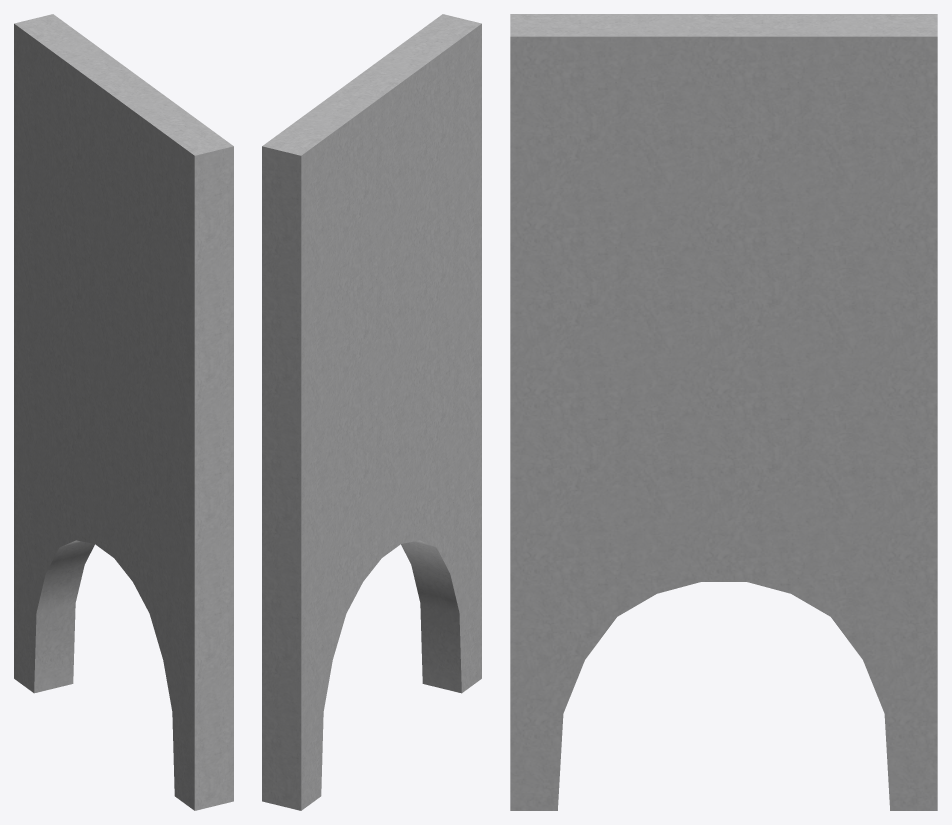
The model's file is GJ_Wall_04.fbx.
3 views of the same model, side by side, from view 1: azimuth 30°, elevation 25°; view 2: azimuth 150°, elevation 25°; view 3: azimuth 270°, elevation 25° (orthographic). The views are drawn at different scales.
Visible parts, largest first — view 1: GJ_Wall_04; view 2: GJ_Wall_04; view 3: GJ_Wall_04.
Boxes of the visible parts, box(x1,y1,x2,y2) form: GJ_Wall_04: box(14, 14, 233, 810); GJ_Wall_04: box(262, 14, 481, 810); GJ_Wall_04: box(510, 14, 937, 810).
Bounding box in the file's own units: 50 × 800 × 400.
